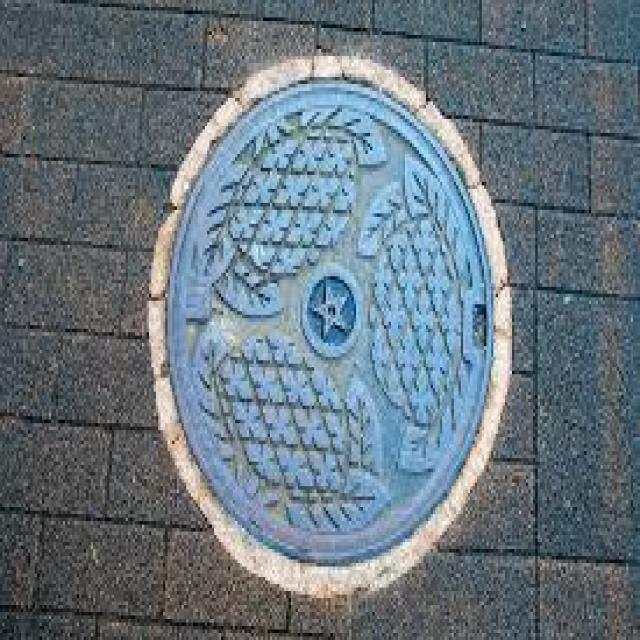manhole: (150, 64, 512, 601)
